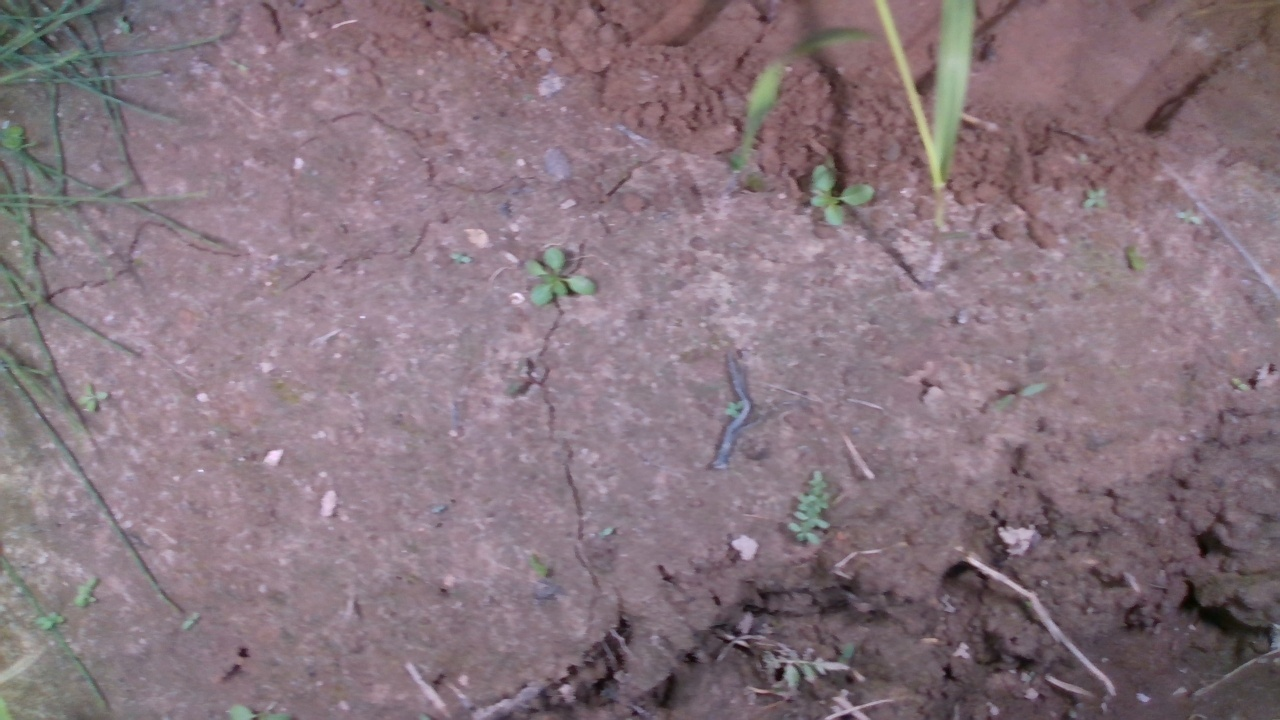weed: (1081, 187, 1109, 209), (446, 250, 473, 265)
